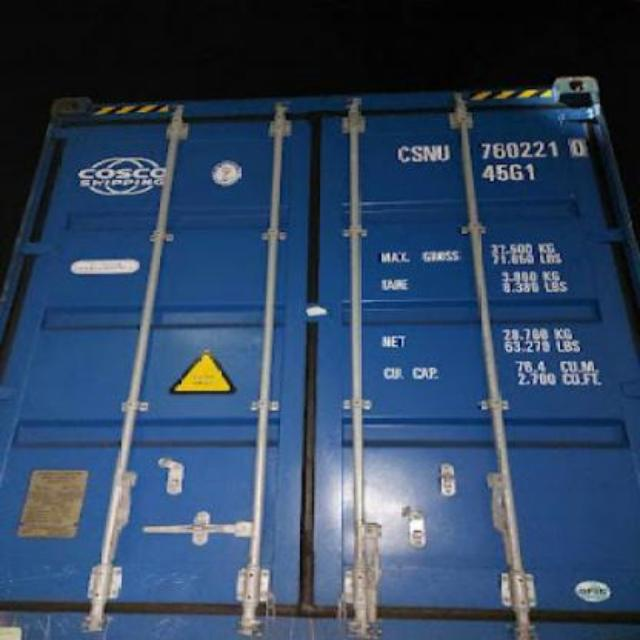0: (508, 142, 520, 158), (572, 142, 584, 154)
1: (548, 142, 560, 154)
2: (520, 142, 532, 158), (534, 141, 546, 157)
6: (492, 143, 506, 159)
7: (480, 144, 492, 160)
C: (396, 144, 409, 164)
N: (424, 146, 438, 164)
S: (410, 146, 422, 162)
U: (438, 142, 452, 164)
